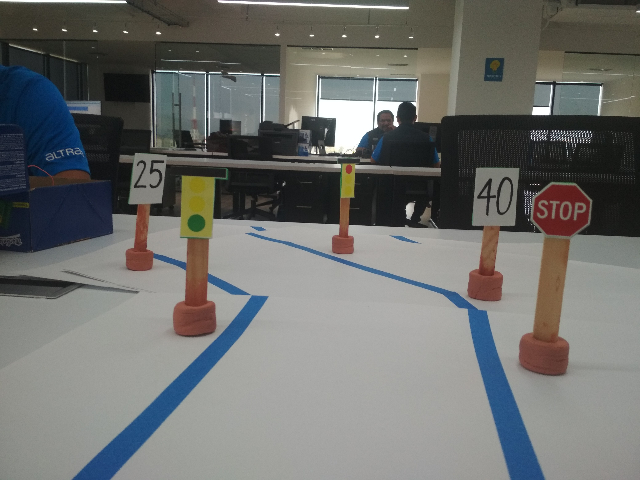Green Traffic Light: (165, 163, 229, 240)
Red Traffic Light: (334, 157, 360, 199)
Speed Limit 25: (126, 151, 166, 205)
Speed Limit 40: (471, 163, 519, 225)
Stop Sign: (532, 179, 594, 240)
